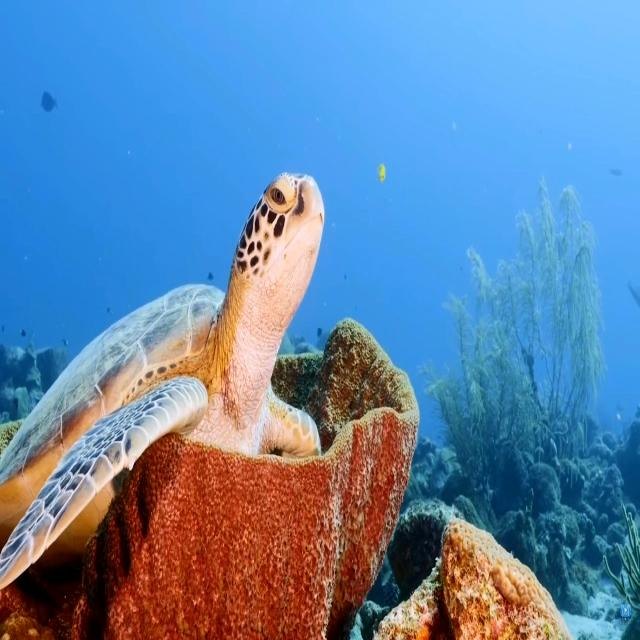Sea turtle: (0, 164, 334, 580)
